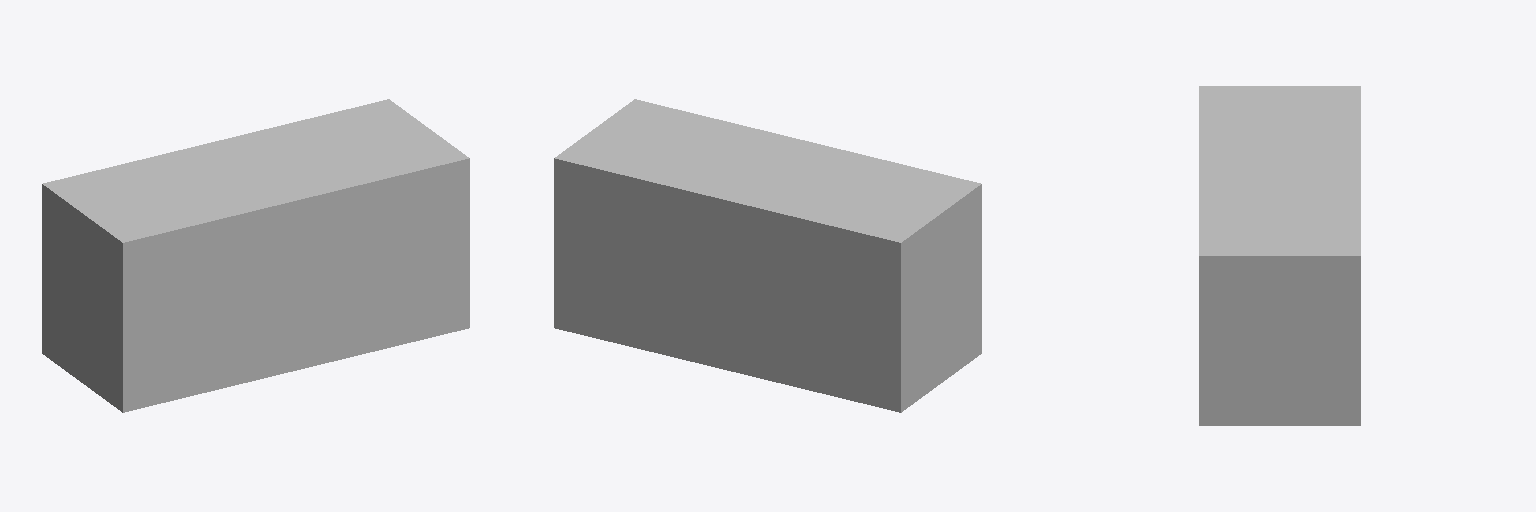
Rendered from Room5HitboxData.obj.
3 renders of one model, left to right at view 1: azimuth 30°, elevation 25°; view 2: azimuth 150°, elevation 25°; view 3: azimuth 270°, elevation 25°, orthographic.
Parts seen in each view (by area): view 1: Big_Cube_Cube.077; view 2: Big_Cube_Cube.077; view 3: Big_Cube_Cube.077.
Part boxes in pixels (left/top/right/bottom): Big_Cube_Cube.077: left=42, top=99, right=469, bottom=412; Big_Cube_Cube.077: left=554, top=99, right=981, bottom=412; Big_Cube_Cube.077: left=1199, top=86, right=1360, bottom=425.
Size of the model in its own units: 109 by 51 by 44.